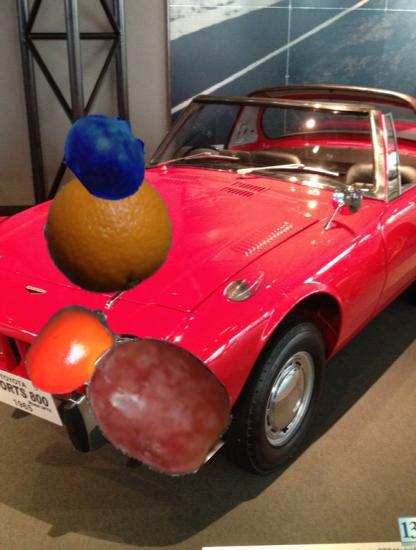Grape: (85, 329, 234, 478)
Huckleberry: (61, 109, 155, 203)
Kaki: (19, 300, 122, 403)
Orange: (44, 168, 173, 297)
